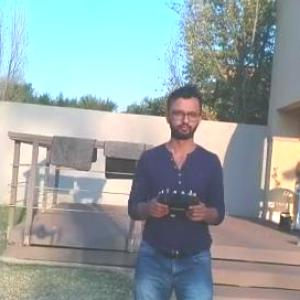follow: (124, 78, 232, 299)
